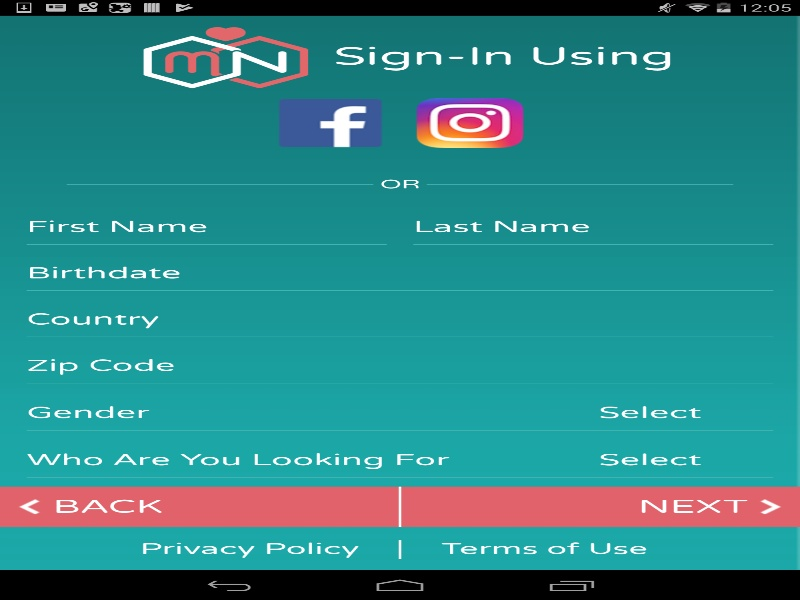Input: (26, 349, 773, 382), (26, 210, 386, 244), (413, 210, 773, 244)
